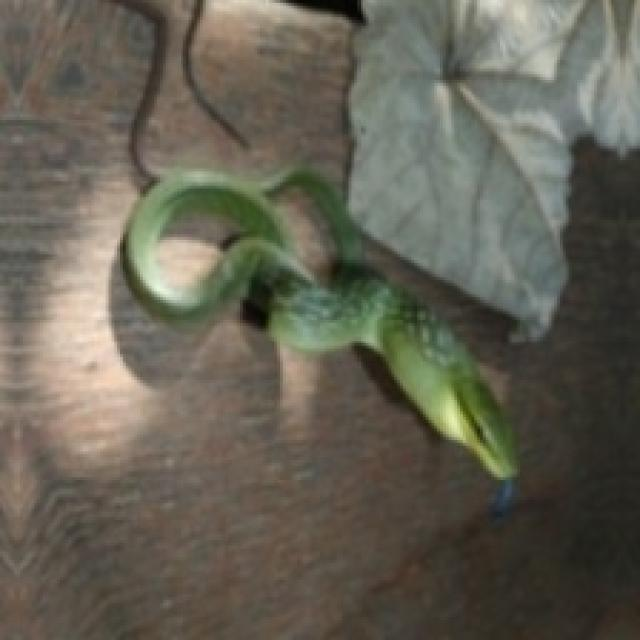red-tailed green ratsnake: (123, 169, 514, 511)
